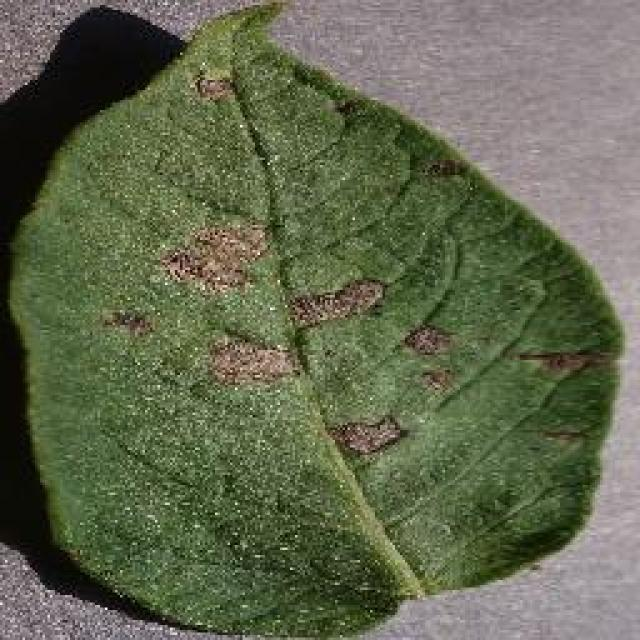Potato: (3, 0, 625, 638)
